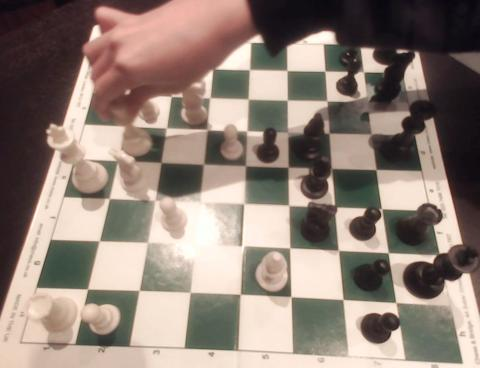xcorner: (366, 127, 381, 142), (358, 65, 372, 80), (244, 61, 258, 76), (168, 59, 183, 73), (131, 57, 145, 72), (322, 93, 336, 108), (242, 91, 257, 105), (163, 88, 178, 102), (324, 126, 339, 140), (371, 163, 386, 177), (283, 160, 298, 174), (196, 156, 210, 171), (330, 201, 345, 215), (284, 199, 298, 214), (138, 238, 153, 252), (390, 298, 405, 312), (286, 293, 300, 308), (79, 284, 93, 299), (320, 64, 334, 78), (282, 63, 296, 77), (206, 60, 220, 74), (362, 95, 376, 109), (282, 92, 296, 106), (203, 89, 217, 103), (124, 86, 138, 100), (283, 124, 297, 138), (241, 123, 255, 137), (200, 121, 214, 135), (158, 120, 172, 134), (117, 118, 131, 132), (327, 162, 341, 176), (240, 158, 254, 172), (152, 155, 166, 169), (109, 153, 123, 167), (377, 203, 391, 217), (238, 198, 252, 212), (192, 196, 206, 210), (146, 194, 160, 208), (100, 192, 114, 206), (383, 248, 397, 262), (334, 246, 348, 260), (285, 244, 299, 258), (236, 242, 250, 256), (187, 240, 201, 254), (90, 236, 104, 250), (338, 296, 352, 310), (234, 291, 248, 305), (182, 289, 196, 303), (130, 287, 144, 301)
